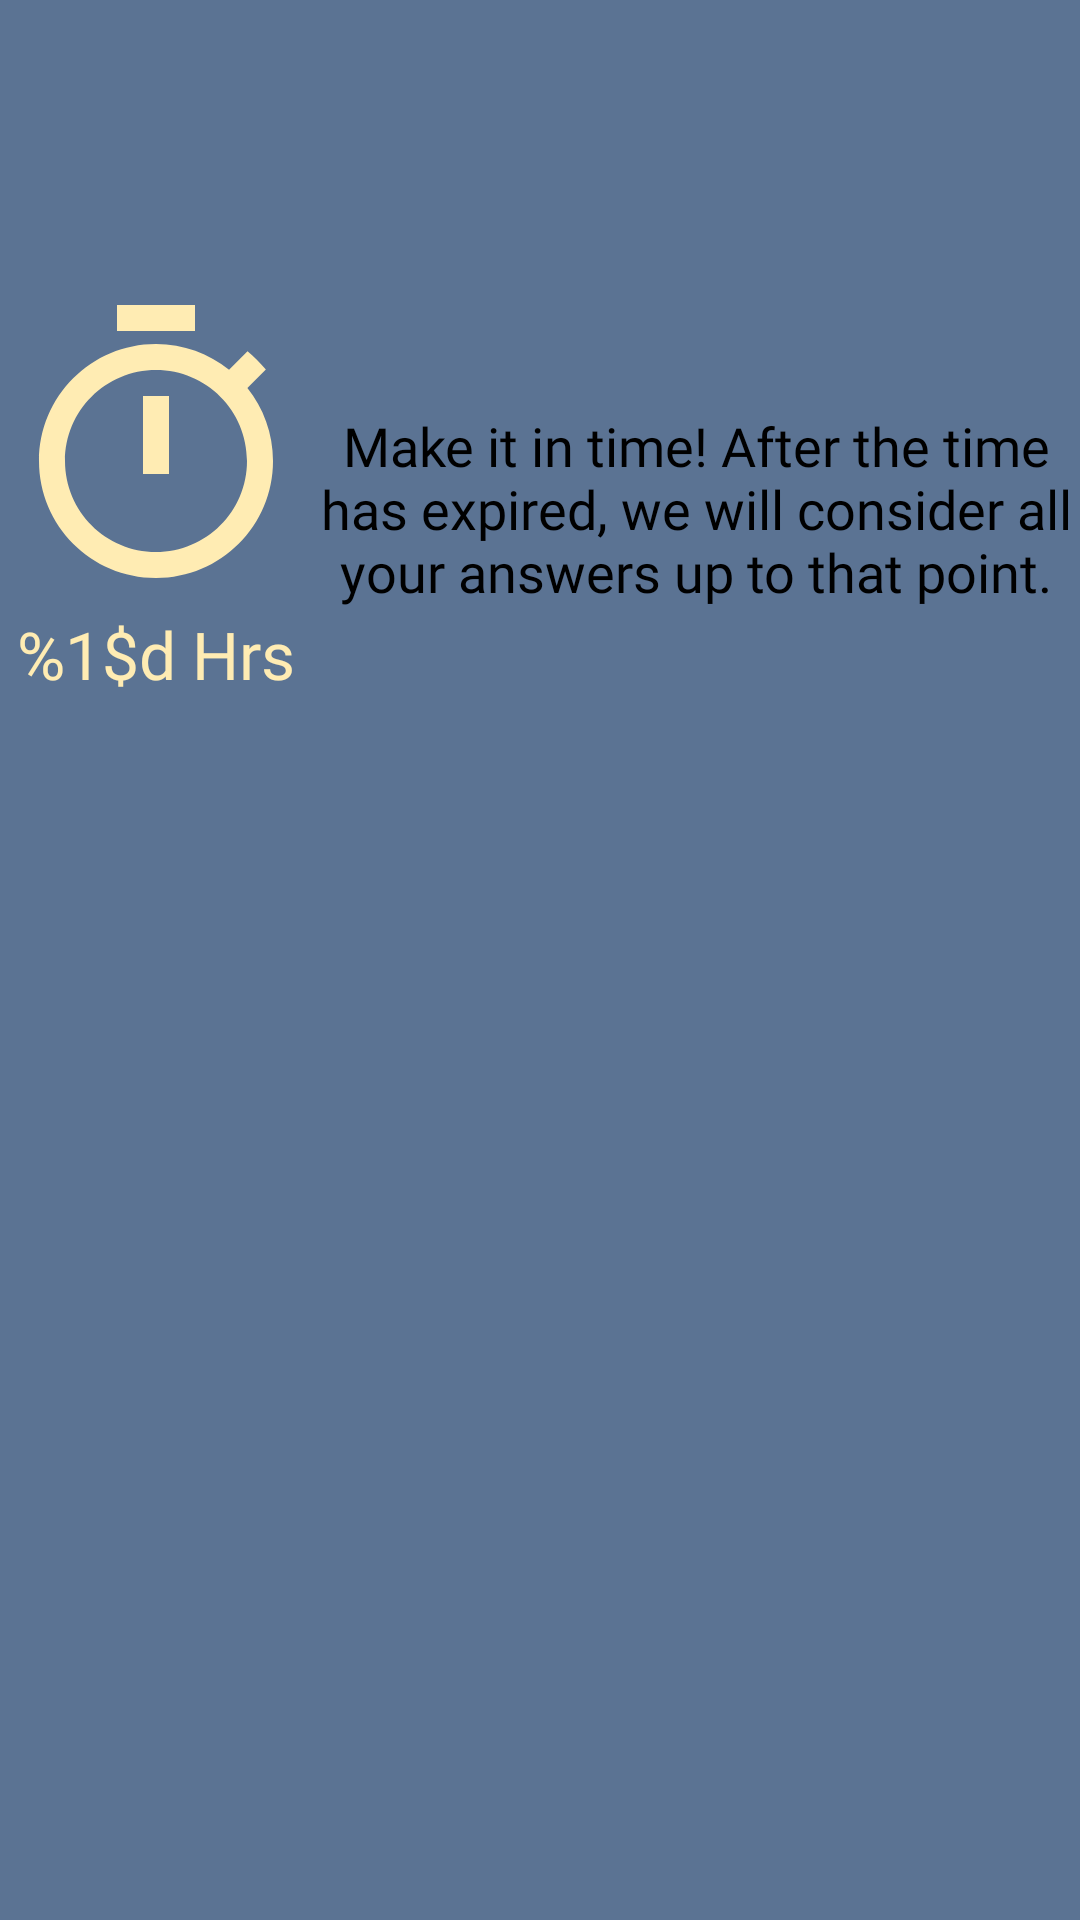

Icons on this 1080*1920 Android screen, each with the point to tap as (x=x, y=y):
timer: (x=156, y=441)
